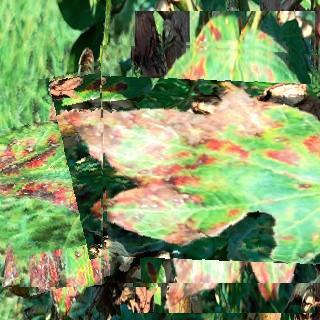blight: (102, 39, 320, 283), (0, 58, 184, 287)
